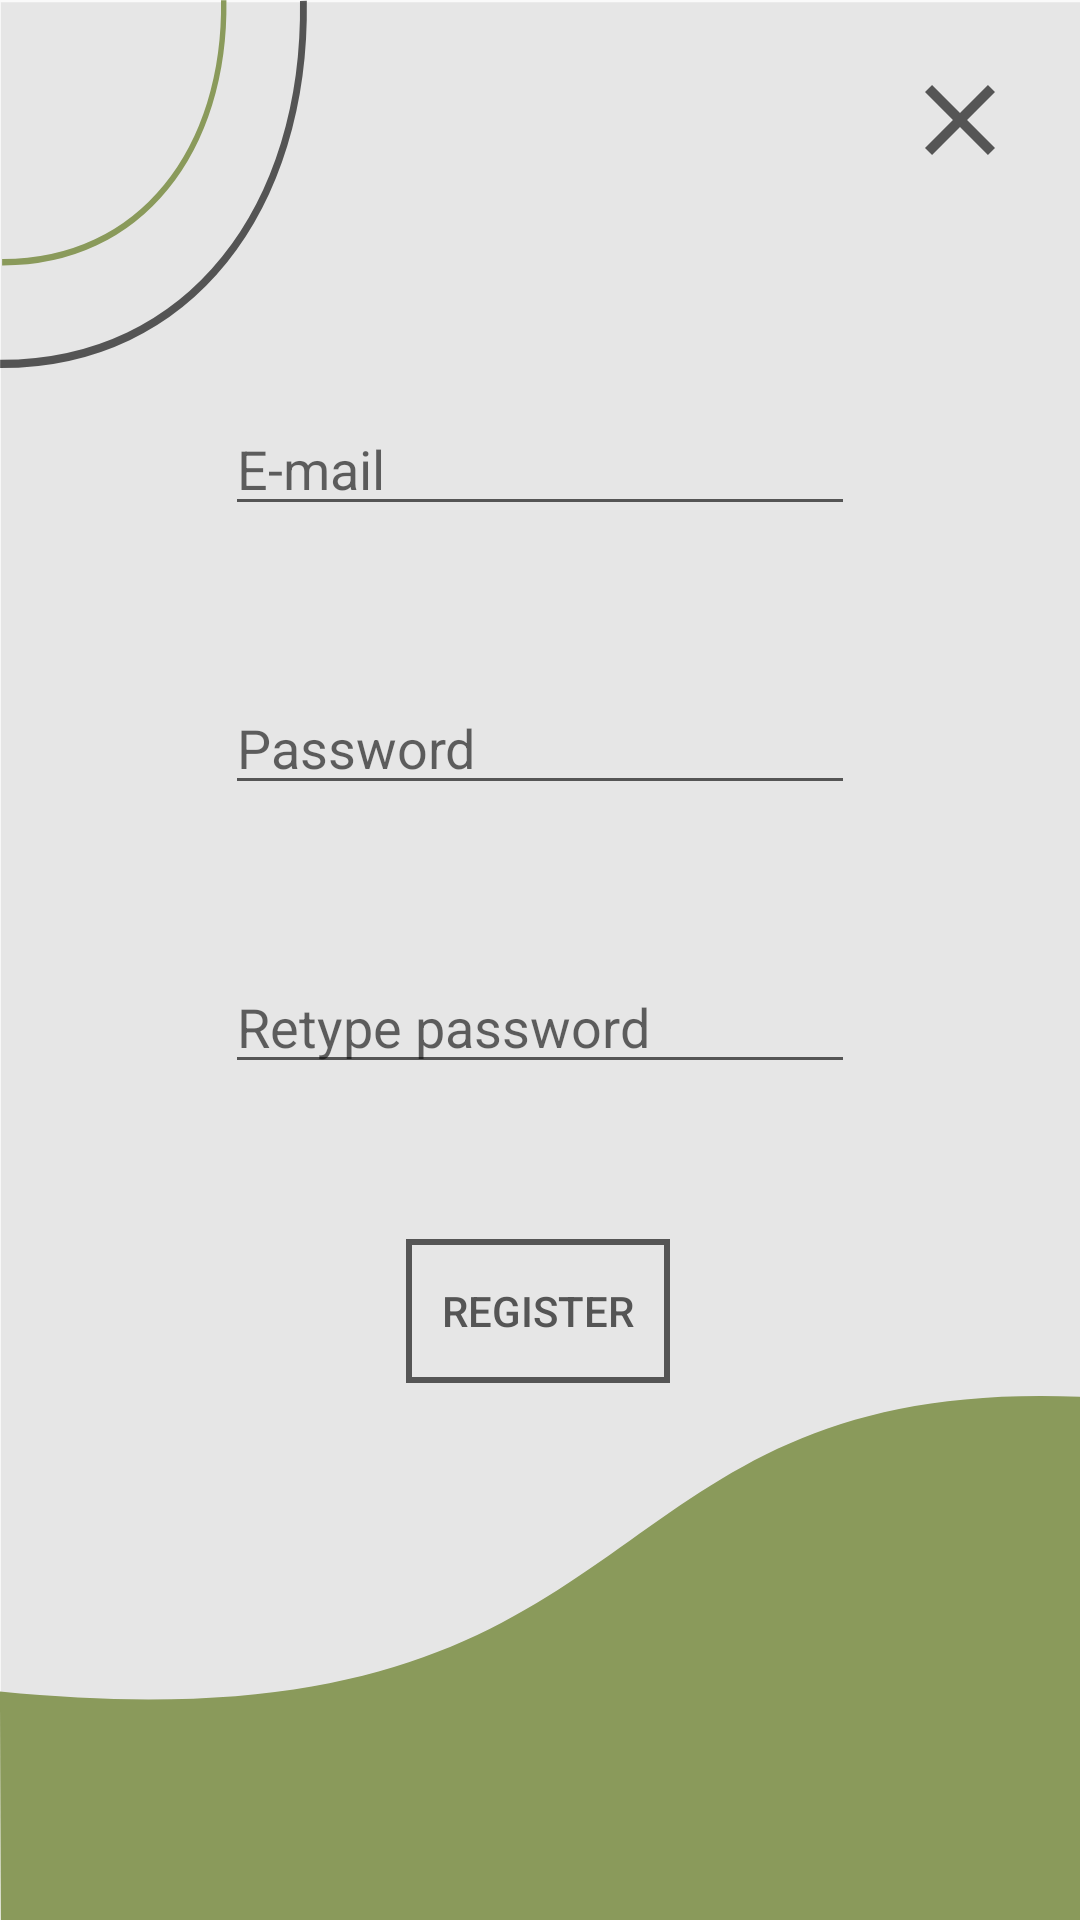

Icons on this 1080×1920 Android screen, each with its box as (x1, y1, x2, y2):
close: (925, 85, 995, 155)
